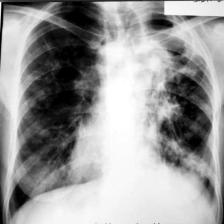tuberculosis: (4, 3, 222, 224)
